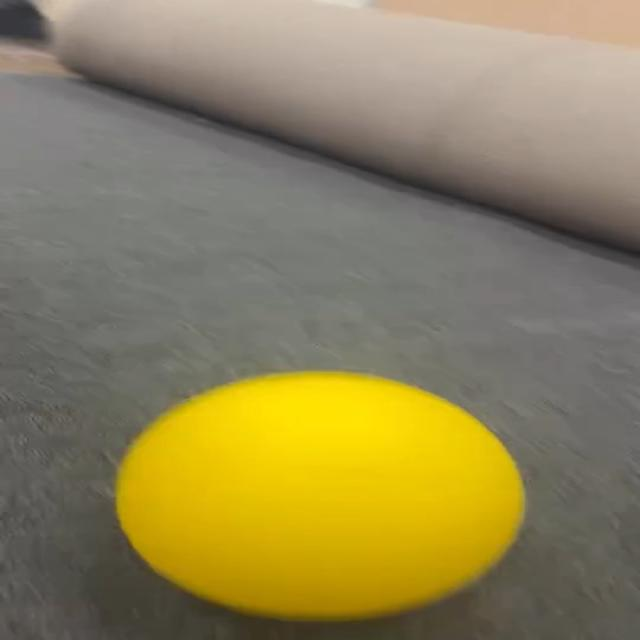Fuels: (114, 371, 524, 617)
